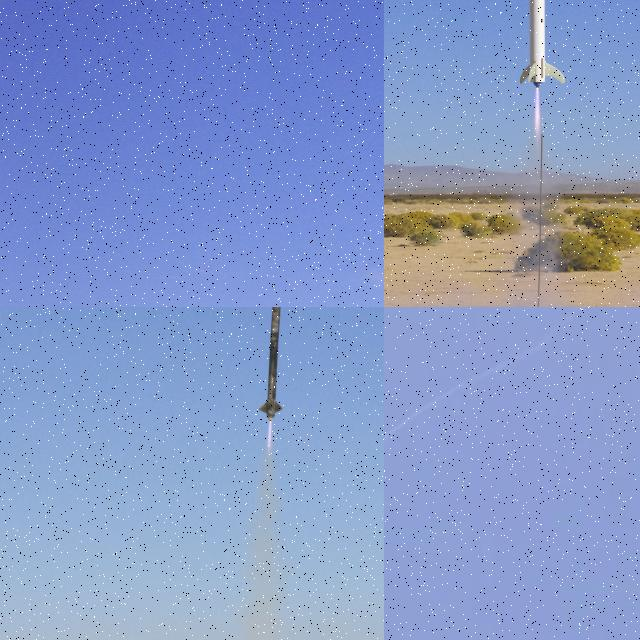Rocket: (518, 0, 566, 88), (258, 307, 283, 421)
